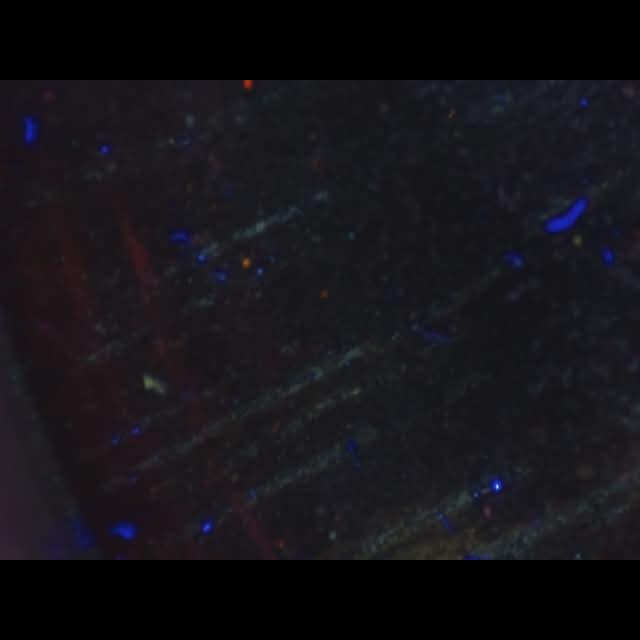microbeads: (142, 372, 166, 398)
